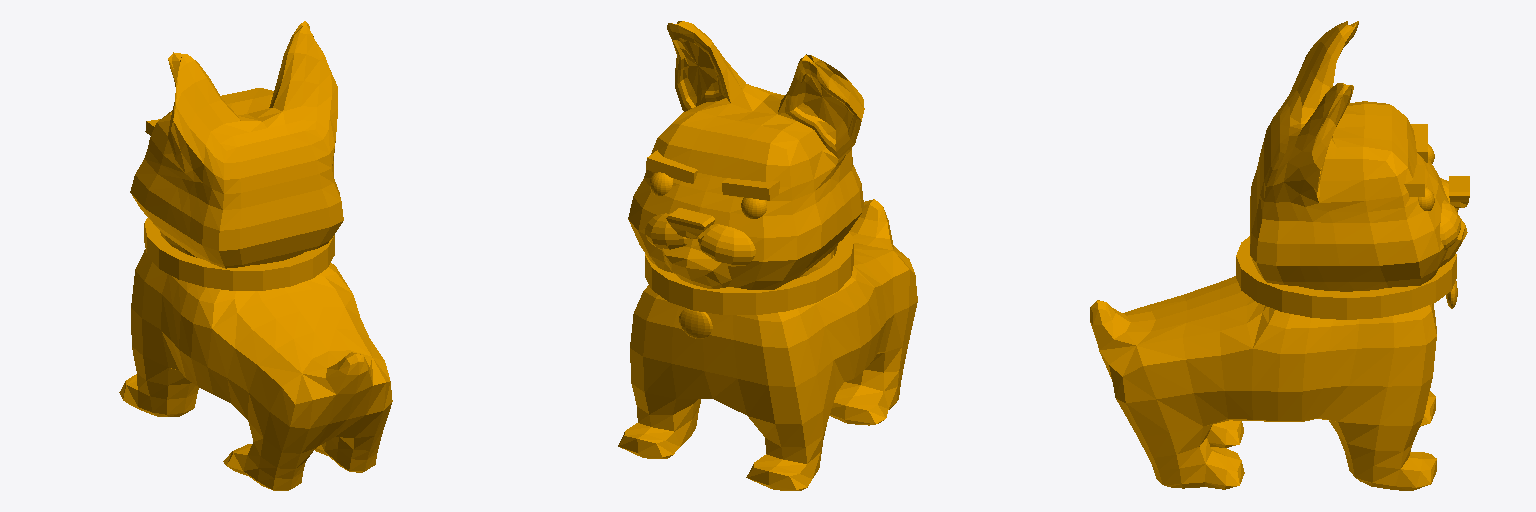
The robot description file, URDF, robot "mesh_object":
<robot name="mesh_object">
            <link name="base">
                <visual>
                    <geometry>
                        <mesh filename="puppy_0.obj" scale="1 1 1" />
                    </geometry>
                </visual>
                <collision>
                    <geometry>
                        <mesh filename="puppy_0.obj" scale="1 1 1" />
                    </geometry>
                </collision>
                <inertial>
                    <origin xyz="0.000000 0.000000 0.032864" rpy="0 0 0" />
                    <mass value="0.5" />
                    <inertia ixx="0.01" iyy="0.01" izz="0.01" ixy="0" ixz="0" iyz="0" />
                </inertial>
            </link>
            </robot>

--- Render facts (derived) ---
3 views of the same robot in one strip: view 1: azimuth 30°, elevation 25°; view 2: azimuth 150°, elevation 25°; view 3: azimuth 270°, elevation 25° (orthographic).
Robot: mesh_object — 1 links, 0 joints (none); root link base; default pose: every joint at zero.
Visible links, largest first — view 1: base; view 2: base; view 3: base.
Link boxes in pixels (x1,y1,x2,y2): base: (119,21,392,490); base: (618,21,917,490); base: (1090,21,1469,490).
Size in the robot's own frame: 0.0307 by 0.0547 by 0.0657 metres.
Meshes: 1 distinct files referenced, 1 mesh visuals loaded (1 OBJ).
